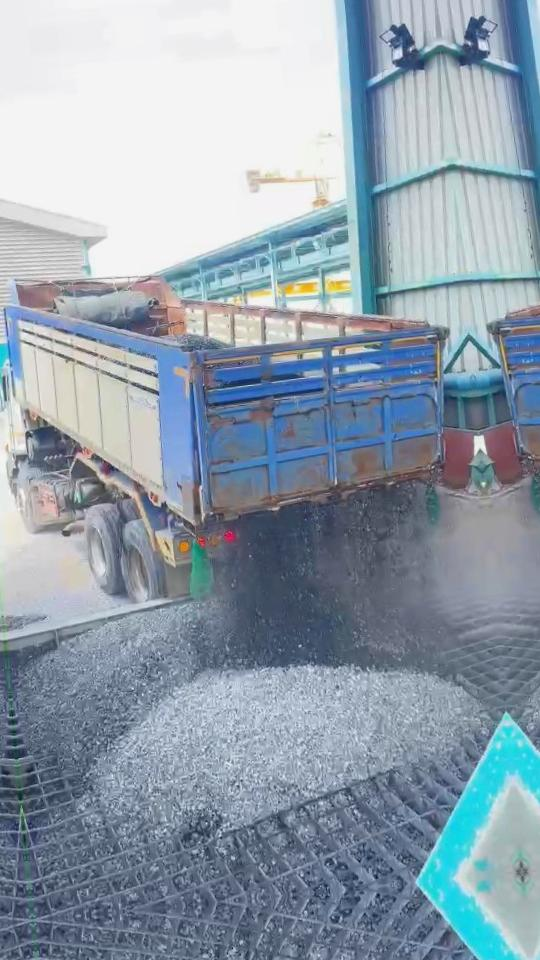gravel: (93, 665, 488, 832), (223, 482, 444, 666), (14, 601, 231, 771), (174, 333, 228, 351), (4, 614, 46, 630)
